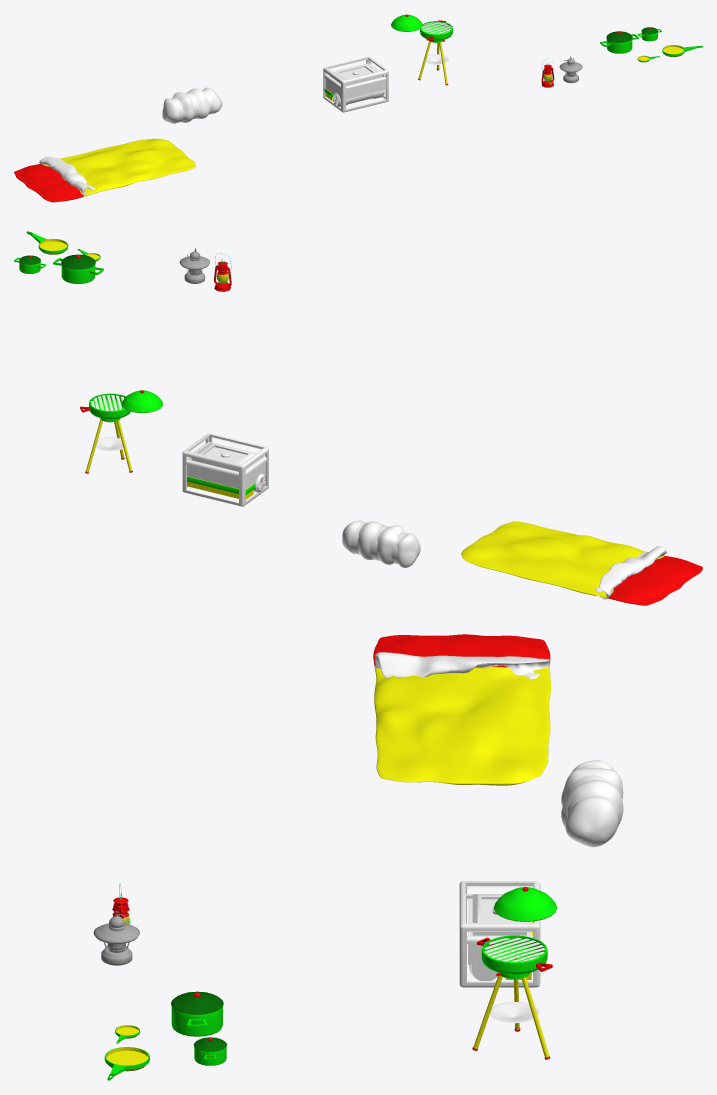
3 renders of one model, top to bottom at view 1: azimuth 30°, elevation 25°; view 2: azimuth 150°, elevation 25°; view 3: azimuth 270°, elevation 25°, orthographic. The views are drawn at different scales.
Visible parts, largest first — view 1: sleeping_bag2_ID, polySurface23_ID, polySurface21_ID, polySurface22_ID, sleeping_bag3_ID, polySurface15_ID, pot_ID, polySurface5_ID, polySurface2_ID; view 2: sleeping_bag2_ID, polySurface23_ID, polySurface21_ID, polySurface15_ID, sleeping_bag3_ID, pot_ID, polySurface2_ID, polySurface5_ID, polySurface16_ID, polySurface22_ID; view 3: sleeping_bag2_ID, polySurface23_ID, sleeping_bag3_ID, polySurface21_ID, pot_ID, polySurface5_ID, polySurface2_ID, polySurface15_ID, pan_ID, pot1_ID, polySurface4_ID, revolvedSurface4_ID.
Boxes of the visible parts, <box> form: sleeping_bag2_ID: <box>14,138,195,202</box>; polySurface23_ID: <box>162,87,222,123</box>; polySurface21_ID: <box>323,56,388,112</box>; polySurface22_ID: <box>324,63,386,99</box>; sleeping_bag3_ID: <box>39,156,94,194</box>; polySurface15_ID: <box>325,64,382,99</box>; pot_ID: <box>600,31,638,53</box>; polySurface5_ID: <box>420,20,452,42</box>; polySurface2_ID: <box>391,14,422,31</box>; sleeping_bag2_ID: <box>461,521,702,605</box>; polySurface23_ID: <box>342,520,420,567</box>; polySurface21_ID: <box>182,433,268,506</box>; polySurface15_ID: <box>187,443,265,489</box>; sleeping_bag3_ID: <box>595,546,666,599</box>; pot_ID: <box>53,254,103,283</box>; polySurface2_ID: <box>121,390,162,412</box>; polySurface5_ID: <box>80,393,130,422</box>; polySurface16_ID: <box>187,476,255,499</box>; polySurface22_ID: <box>186,442,267,477</box>; sleeping_bag2_ID: <box>373,634,550,785</box>; polySurface23_ID: <box>561,760,623,847</box>; sleeping_bag3_ID: <box>375,652,550,679</box>; polySurface21_ID: <box>459,881,540,987</box>; pot_ID: <box>171,991,223,1036</box>; polySurface5_ID: <box>477,935,552,978</box>; polySurface2_ID: <box>493,887,557,921</box>; polySurface15_ID: <box>468,894,531,964</box>; pan_ID: <box>104,1047,149,1080</box>; pot1_ID: <box>194,1037,226,1065</box>; polySurface4_ID: <box>489,1001,539,1023</box>; revolvedSurface4_ID: <box>93,923,139,943</box>.
Size of the model in its own units: 11.7 by 1.7 by 4.58.
